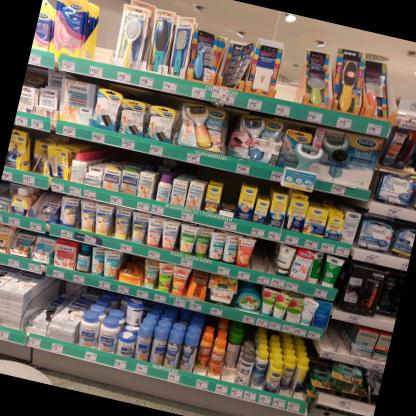empty_space: (90, 11, 124, 67), (275, 48, 307, 105), (249, 241, 274, 275), (320, 317, 340, 354), (336, 324, 355, 358)
